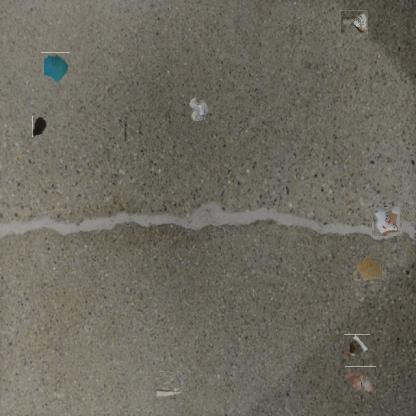dirty: (40, 53, 71, 85), (345, 366, 376, 396), (155, 370, 185, 400), (373, 207, 401, 235), (340, 10, 368, 35), (344, 334, 370, 359), (188, 95, 210, 123)
liquid: (353, 255, 381, 283), (32, 115, 47, 137)
